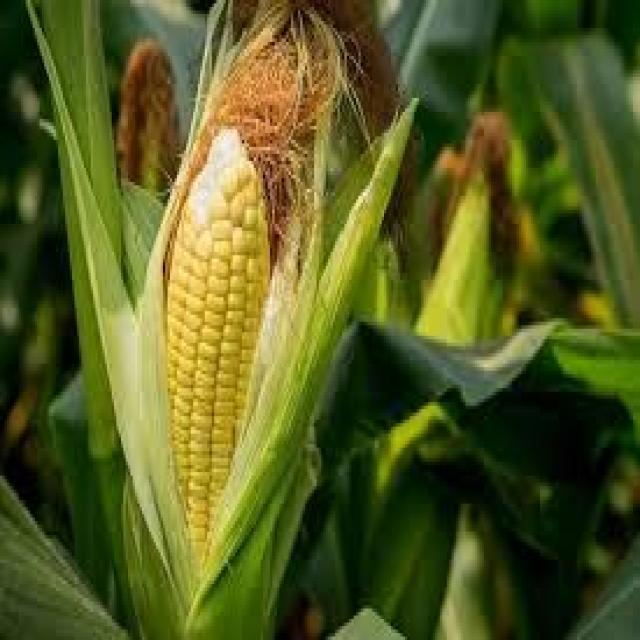purecorn: (138, 102, 304, 575)
